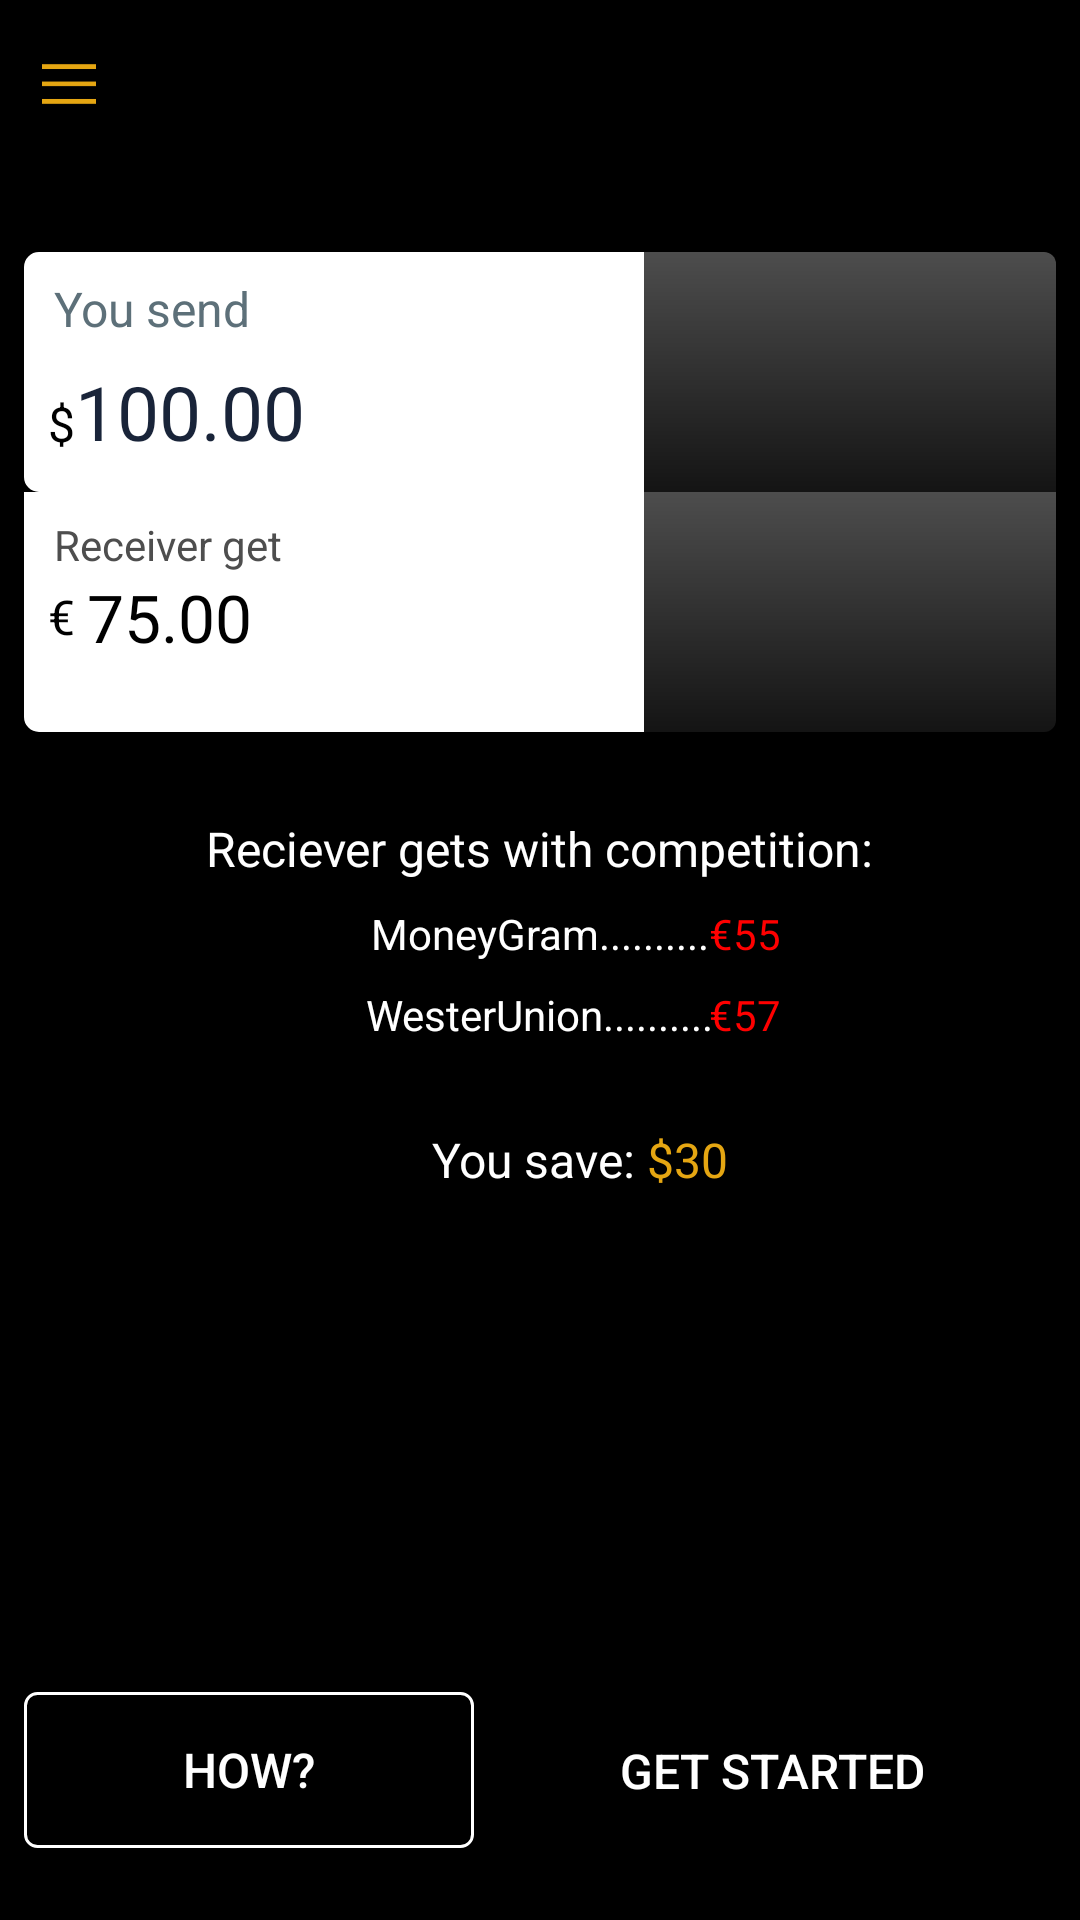

Locate icon controls on the screen. Image size 1080px×1920px, boxes as bbox=[x1, y1, x2, y2].
menu: bbox=[42, 64, 96, 104]
